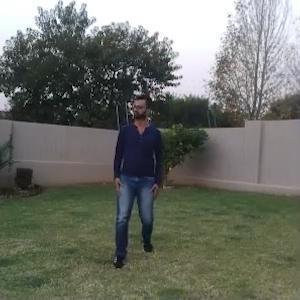follow: (112, 85, 161, 252)
